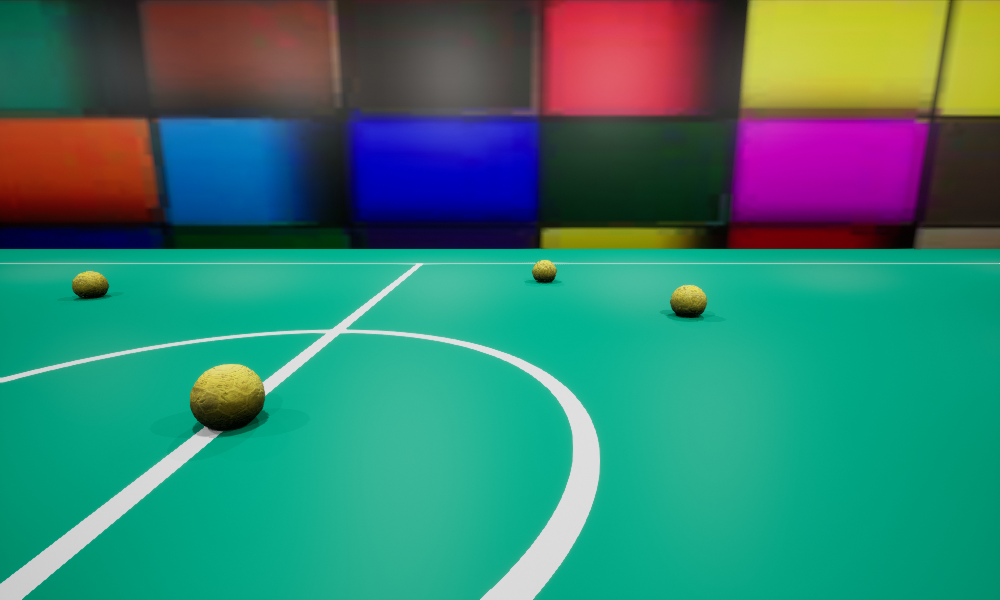b: (190, 364, 264, 429), (670, 285, 706, 317), (72, 271, 108, 298), (532, 260, 556, 282)
